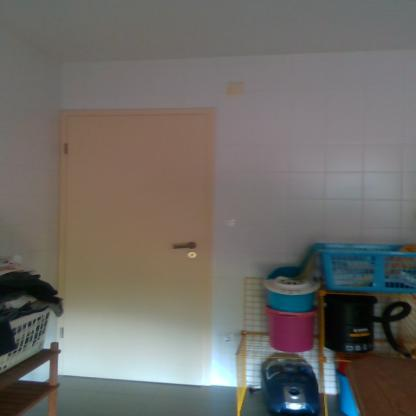door: (68, 114, 204, 384)
hinged: (63, 142, 69, 154), (58, 326, 64, 338)
lever: (172, 242, 198, 251)
